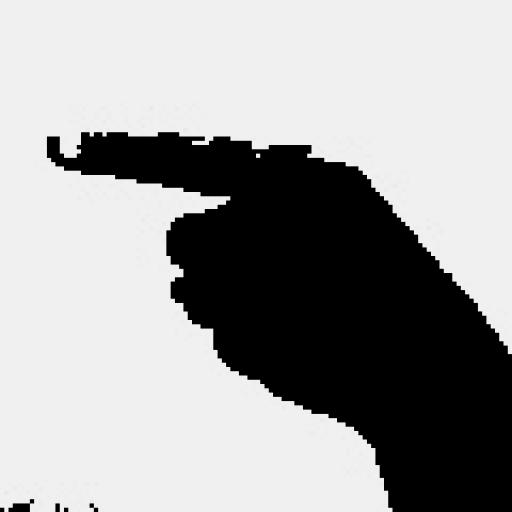index_left: (42, 128, 512, 337)
